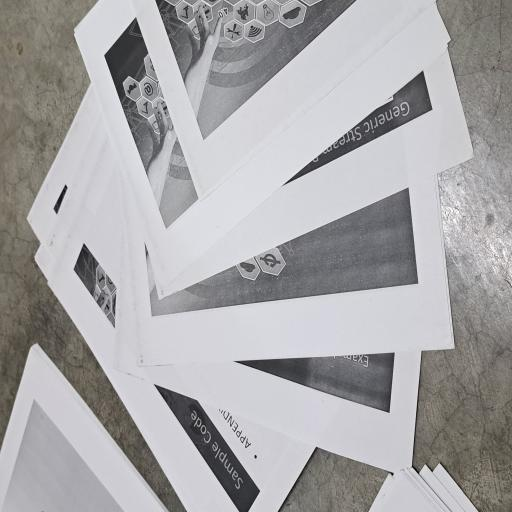paper: (0, 34, 384, 512), (0, 0, 128, 232)
